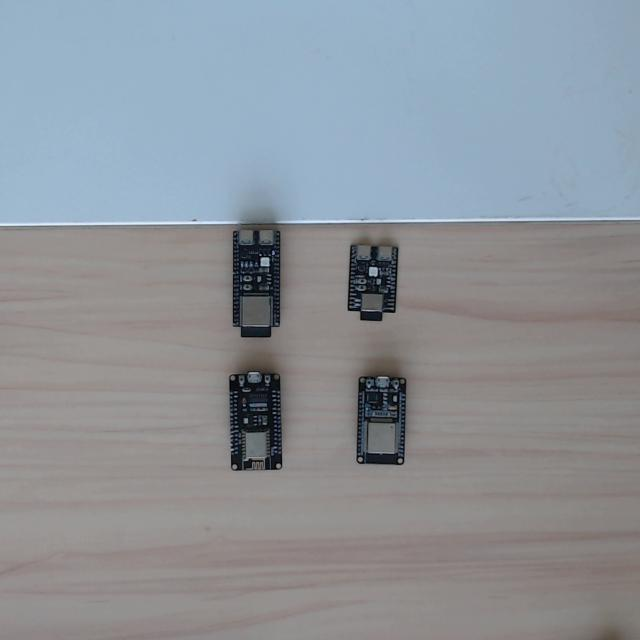ESP32-DevKit: (356, 376, 408, 468)
ESP32C3-DevKit: (346, 243, 401, 324)
ESP32S3-Devkit: (232, 226, 282, 341)
ESP8266-NodeMCU: (227, 371, 285, 474)
